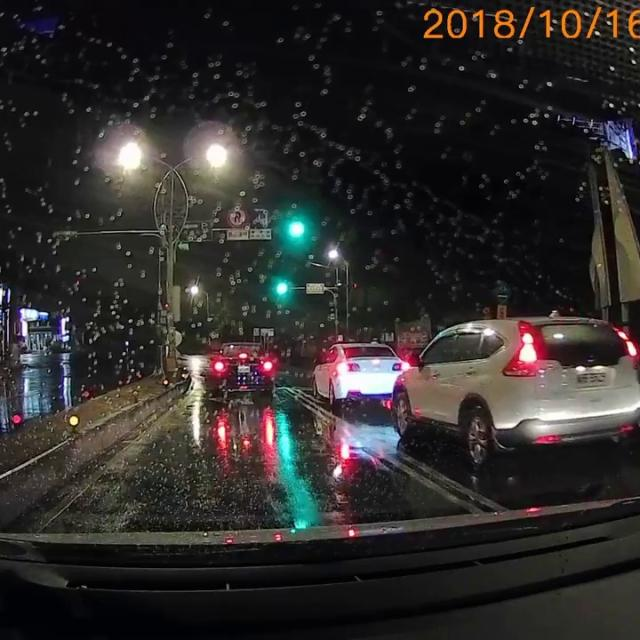Car: (390, 312, 639, 472), (308, 340, 410, 406), (210, 339, 273, 392)
